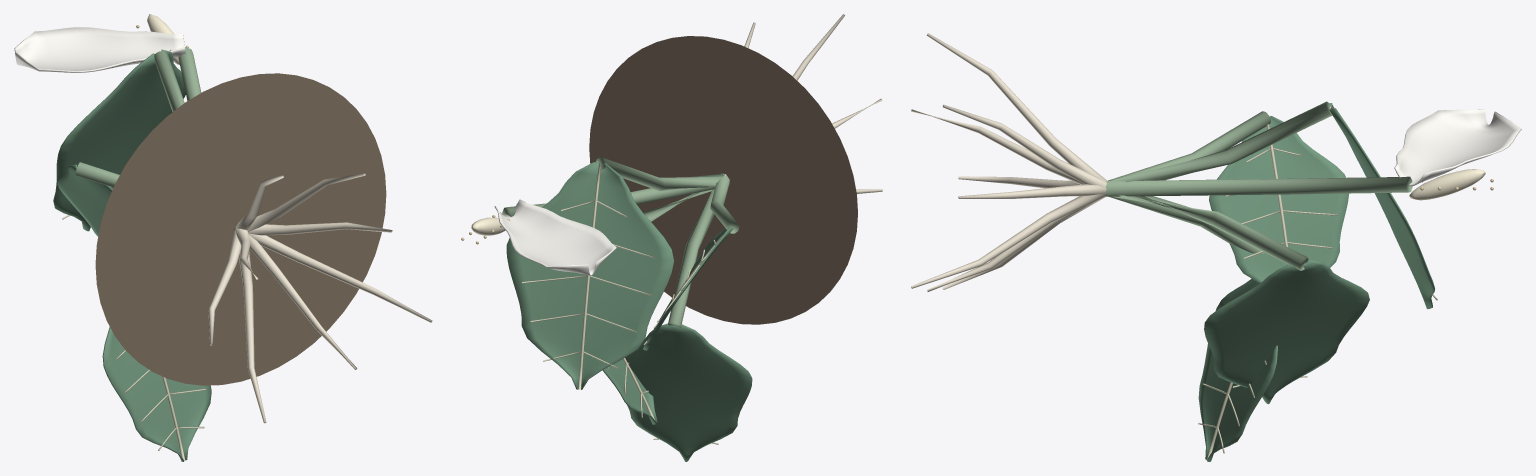
The model's file is lily.glb.
3 views of the same model, side by side, from view 1: azimuth 30°, elevation 25°; view 2: azimuth 150°, elevation 25°; view 3: azimuth 270°, elevation 25° (orthographic). The views are drawn at different scales.
Visible parts, largest first — view 1: Part_Soil__soil, Part_Leaf__blade0, Part_Leaf__blade2, Part_Spathe__spathe, Part_Leaf__blade3, Part_Roots__rt7, Part_Roots__rt5, Part_Roots__rt6, Part_Roots__rt0, Part_Roots__rt1, Part_Roots__rt4, Part_Petiole__pet0 (+3 smaller); view 2: Part_Soil__soil, Part_Leaf__blade0, Part_Leaf__blade2, Part_Spathe__spathe, Part_Petiole__pet2, Part_Petiole__pet0, Part_Leaf__blade1, Part_Petiole__petf, Part_Leaf__blade3, Part_Petiole__pet3, Part_Vein__vn0mid, Part_Spadix__spadix (+1 smaller); view 3: Part_Leaf__blade1, Part_Leaf__blade3, Part_Spathe__spathe, Part_Petiole__petf, Part_Leaf__blade2, Part_Petiole__pet0, Part_Leaf__blade0, Part_Petiole__pet1, Part_Roots__rt2, Part_Roots__rt7, Part_Petiole__pet3, Part_Roots__rt1 (+6 smaller).
Boxes of the visible parts, bbox=[...] form: Part_Soil__soil: bbox=[95, 73, 386, 385]; Part_Leaf__blade0: bbox=[53, 49, 185, 231]; Part_Leaf__blade2: bbox=[102, 327, 211, 461]; Part_Spathe__spathe: bbox=[14, 27, 185, 72]; Part_Leaf__blade3: bbox=[57, 164, 112, 236]; Part_Roots__rt7: bbox=[248, 233, 432, 322]; Part_Roots__rt5: bbox=[239, 251, 266, 423]; Part_Roots__rt6: bbox=[248, 235, 357, 369]; Part_Roots__rt0: bbox=[248, 222, 392, 235]; Part_Roots__rt1: bbox=[247, 173, 365, 231]; Part_Roots__rt4: bbox=[208, 229, 241, 345]; Part_Petiole__pet0: bbox=[154, 50, 184, 111]; Part_Soil__soil: bbox=[589, 36, 857, 324]; Part_Leaf__blade0: bbox=[506, 162, 674, 389]; Part_Leaf__blade2: bbox=[625, 323, 752, 461]; Part_Spathe__spathe: bbox=[494, 199, 616, 275]; Part_Petiole__pet2: bbox=[668, 189, 714, 327]; Part_Petiole__pet0: bbox=[596, 157, 723, 191]; Part_Leaf__blade1: bbox=[602, 359, 657, 424]; Part_Petiole__petf: bbox=[502, 173, 724, 216]; Part_Leaf__blade3: bbox=[643, 227, 733, 350]; Part_Petiole__pet3: bbox=[710, 175, 739, 233]; Part_Vein__vn0mid: bbox=[578, 163, 601, 389]; Part_Spadix__spadix: bbox=[471, 217, 505, 235]; Part_Leaf__blade1: bbox=[1204, 259, 1369, 404]; Part_Leaf__blade3: bbox=[1209, 116, 1348, 283]; Part_Spathe__spathe: bbox=[1394, 109, 1521, 186]; Part_Petiole__petf: bbox=[1105, 176, 1412, 196]; Part_Leaf__blade2: bbox=[1198, 278, 1277, 461]; Part_Petiole__pet0: bbox=[1109, 101, 1332, 182]; Part_Leaf__blade0: bbox=[1329, 103, 1434, 309]; Part_Petiole__pet1: bbox=[1112, 195, 1308, 270]; Part_Roots__rt2: bbox=[926, 33, 1107, 181]; Part_Roots__rt7: bbox=[911, 193, 1106, 288]; Part_Petiole__pet3: bbox=[1108, 111, 1270, 181]; Part_Roots__rt1: bbox=[942, 104, 1106, 187].
Bounding box in the file's own units: 1.1 × 1.51 × 1.92.
